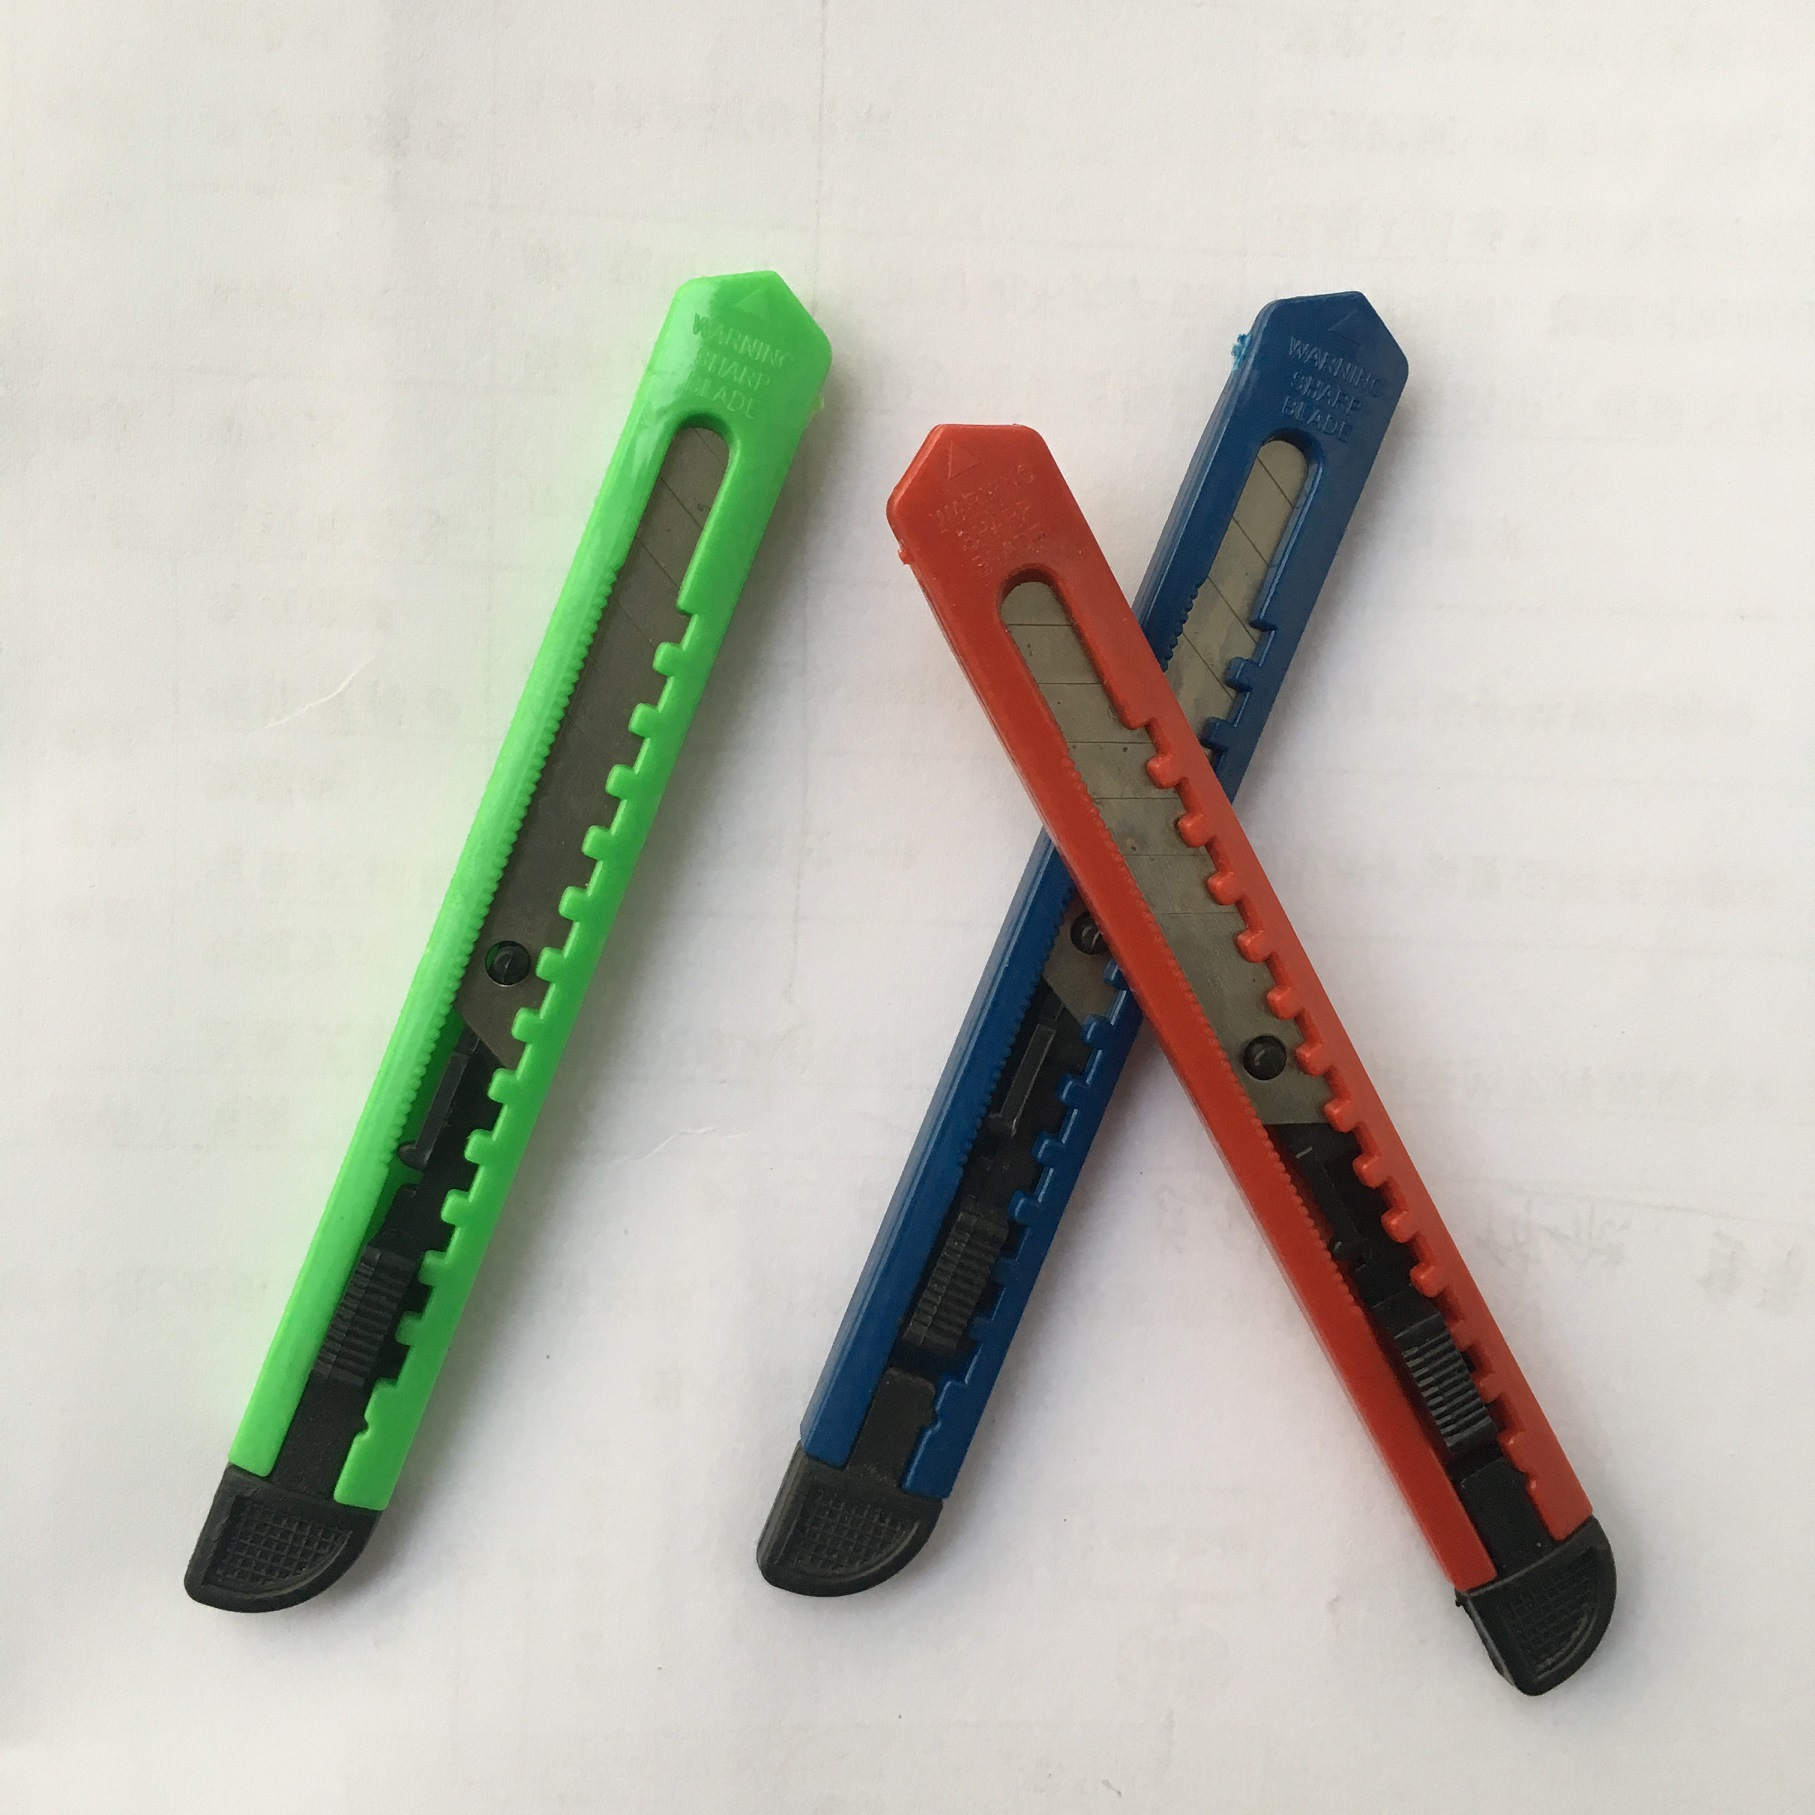cutter: (884, 414, 1622, 1707), (181, 264, 834, 1614), (753, 288, 1413, 1596)
